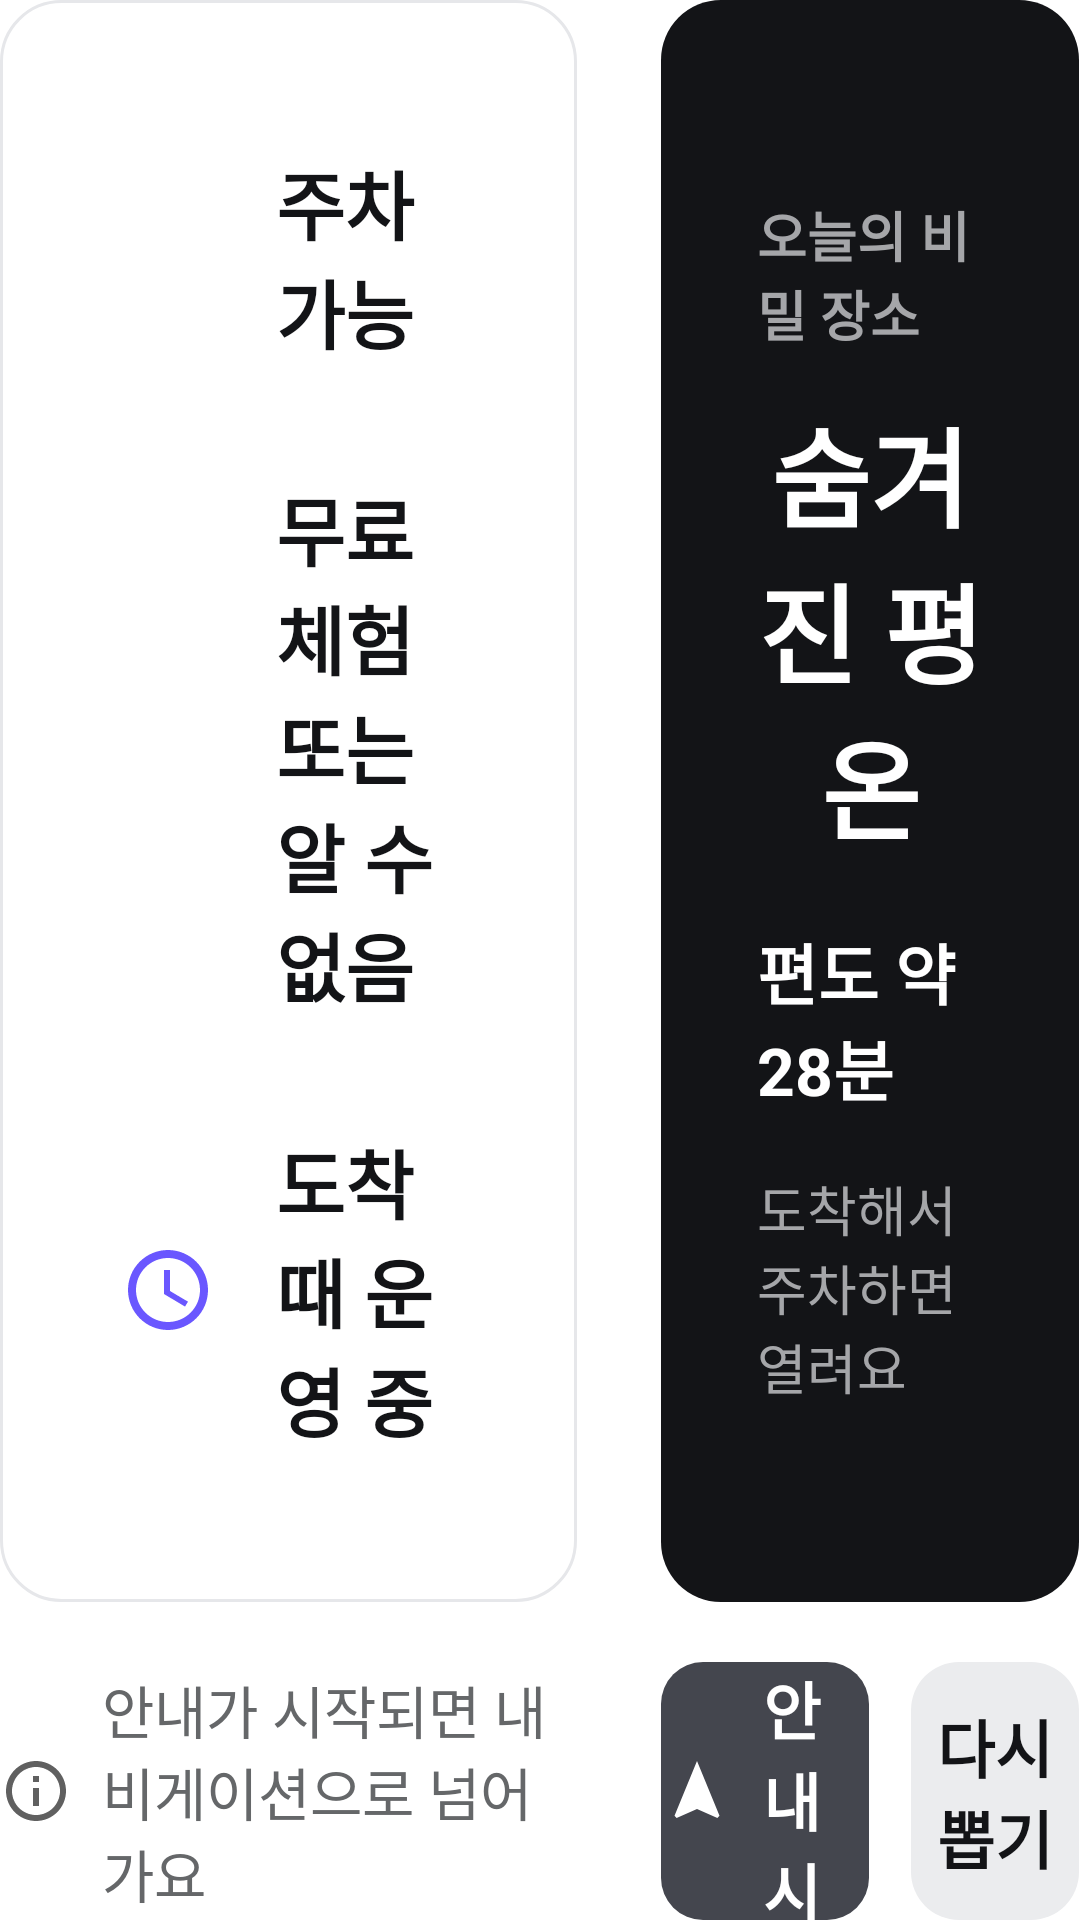

Named icons in this screenshot (1080*1920) and their centers, (x=x, y=y):
pleos clock: (x=168, y=1290)
pleos info: (x=36, y=1791)
pleos nav arrow: (x=697, y=1789)
